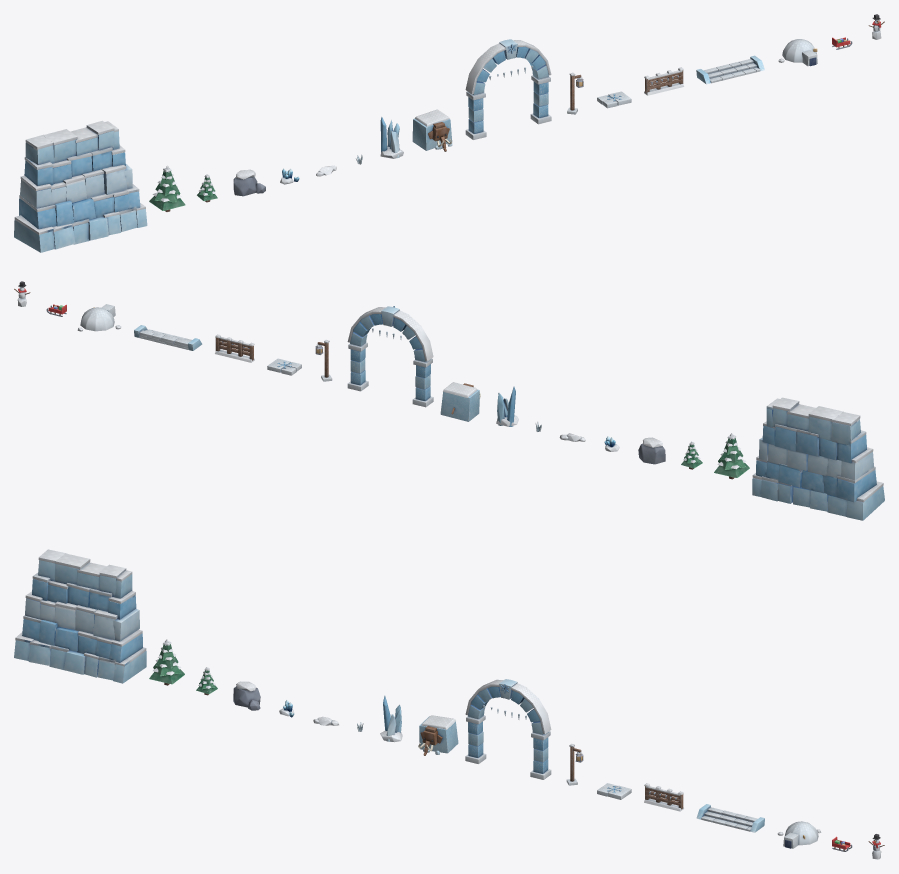
Rendered from Decors_Glace.fbx.
3 views of the same model, one above another, from view 1: azimuth 30°, elevation 25°; view 2: azimuth 150°, elevation 25°; view 3: azimuth 330°, elevation 25° (orthographic).
Visible parts, largest first — view 1: Glace_Glacier, Glace_PorteGlace, Glace_BlocMammouth, Glace_Escalier, Glace_Sapin, Glace_Barriere, Glace_Igloo, Glace_Pic, Glace_Rocher; view 2: Glace_Glacier, Glace_PorteGlace, Glace_BlocMammouth, Glace_Sapin, Glace_Igloo, Glace_Escalier, Glace_Barriere, Glace_Pic, Glace_Rocher; view 3: Glace_Glacier, Glace_PorteGlace, Glace_BlocMammouth, Glace_Escalier, Glace_Sapin, Glace_Igloo, Glace_Barriere, Glace_Rocher, Glace_Pic.
Part boxes in pixels (<box>): Glace_Glacier: <box>14,120,147,252</box>; Glace_PorteGlace: <box>465,39,551,139</box>; Glace_BlocMammouth: <box>412,109,452,151</box>; Glace_Escalier: <box>696,55,764,84</box>; Glace_Sapin: <box>149,165,185,211</box>; Glace_Barriere: <box>644,67,684,95</box>; Glace_Igloo: <box>778,39,817,66</box>; Glace_Pic: <box>380,117,403,158</box>; Glace_Rocher: <box>233,169,265,196</box>; Glace_Glacier: <box>752,397,884,520</box>; Glace_PorteGlace: <box>347,306,433,407</box>; Glace_BlocMammouth: <box>440,382,480,421</box>; Glace_Sapin: <box>714,433,749,479</box>; Glace_Igloo: <box>77,304,121,331</box>; Glace_Escalier: <box>134,325,202,350</box>; Glace_Barriere: <box>215,334,254,362</box>; Glace_Pic: <box>496,386,518,426</box>; Glace_Rocher: <box>638,437,665,464</box>; Glace_Glacier: <box>14,549,146,683</box>; Glace_PorteGlace: <box>465,679,551,779</box>; Glace_BlocMammouth: <box>418,715,458,755</box>; Glace_Escalier: <box>696,804,764,832</box>; Glace_Sapin: <box>149,639,184,685</box>; Glace_Igloo: <box>777,821,821,848</box>; Glace_Barriere: <box>644,783,683,811</box>; Glace_Rocher: <box>233,681,260,710</box>; Glace_Pic: <box>380,695,402,742</box>.
Size of the model in its own units: 281 by 29.62 by 15.03.
Materials: 17 (17 with a texture image).
